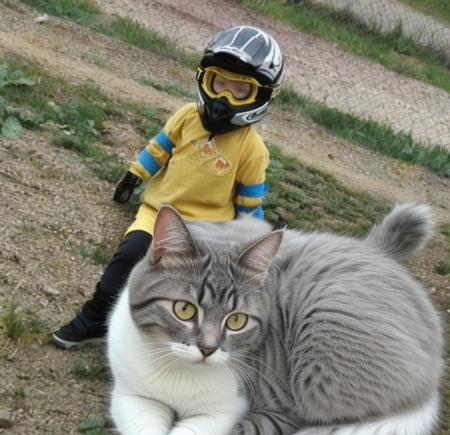cat: (103, 201, 448, 435)
person: (48, 25, 273, 383)
